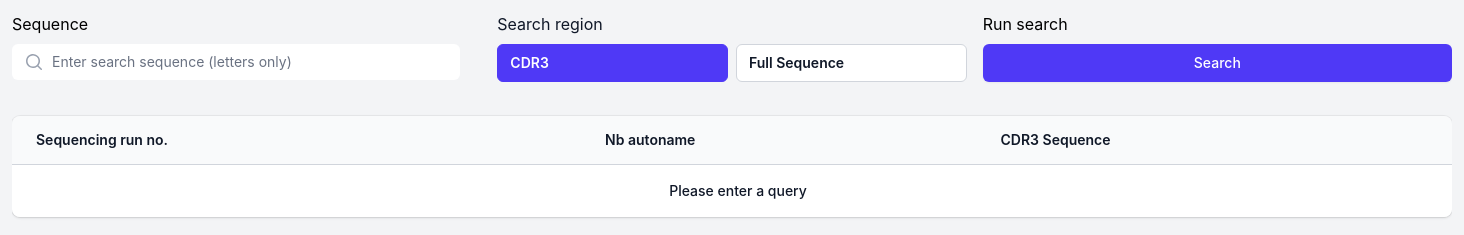
SearchSequencing › shows 'No sequences found' after empty result
The image size is (1464, 235).
Type "XYZXYZ" into the search field with placeholder "Enter search sequence (letters only)" at (236, 62), box [12, 44, 460, 80]
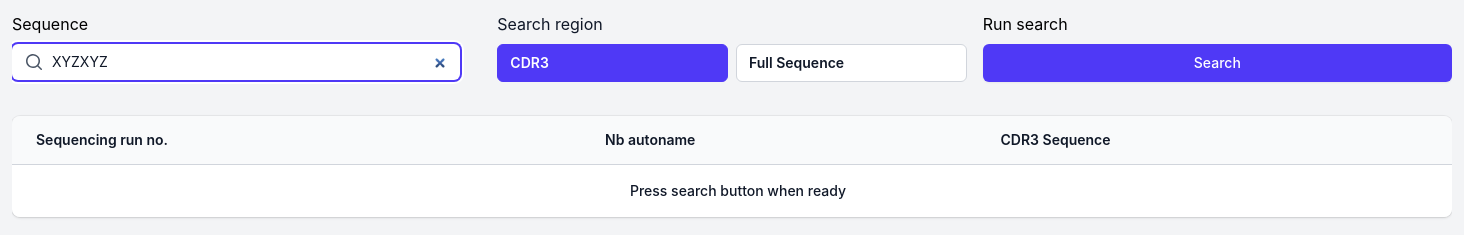
Click the button "Search" at (1217, 63), box [983, 44, 1452, 82]
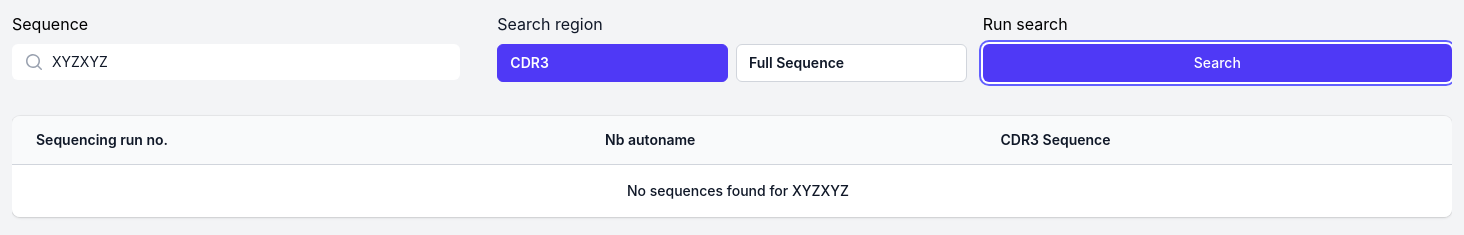
Now the text "No sequences found for XYZXYZ" is shown, box [627, 182, 849, 199]
